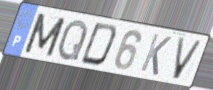6: (113, 28, 142, 71)
D: (78, 21, 120, 68)
K: (138, 32, 173, 78)
M: (22, 11, 68, 59)
Q: (57, 18, 89, 63)
V: (171, 35, 205, 82)
